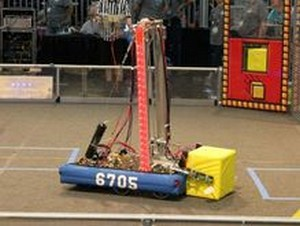cube: (186, 146, 238, 200)
